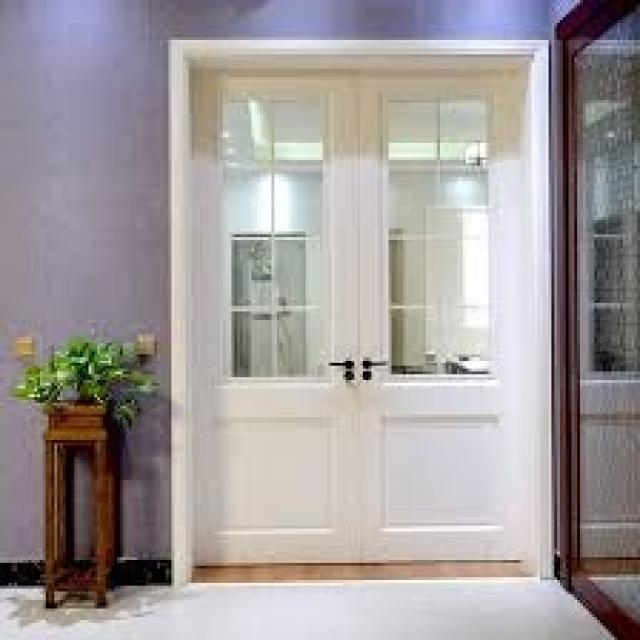door: (177, 41, 549, 573)
